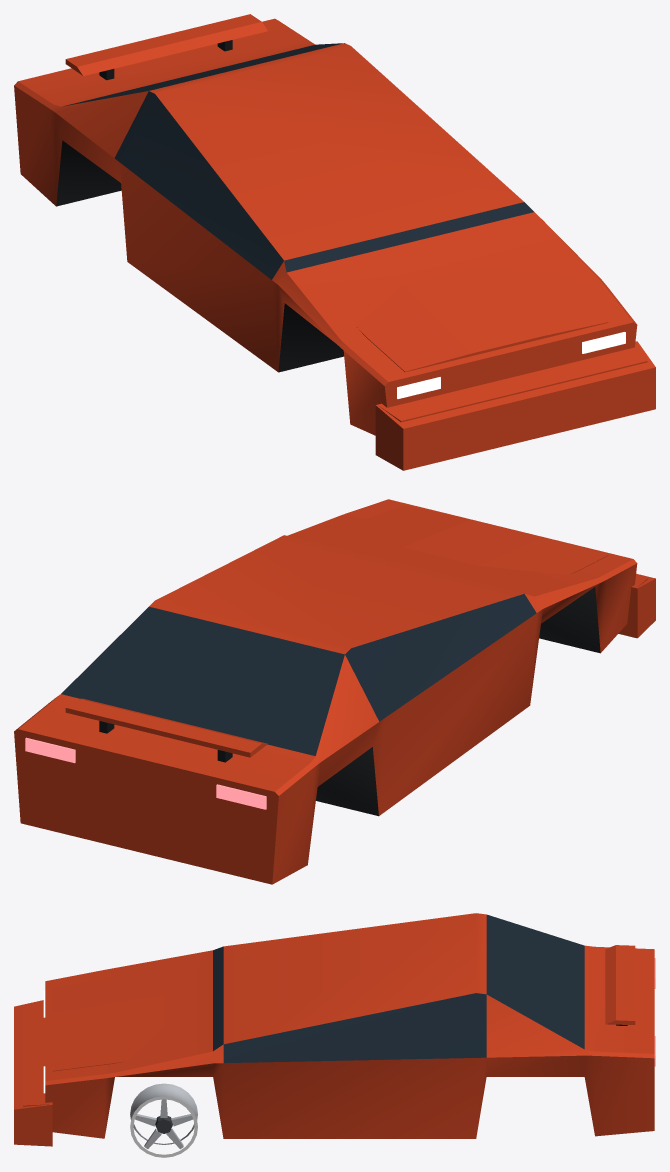
The picture shows the model from 3 angles, top to bottom: view 1: azimuth 30°, elevation 25°; view 2: azimuth 150°, elevation 25°; view 3: azimuth 270°, elevation 25°; orthographic projection. The views are drawn at different scales.
Parts seen in each view (by area): view 1: body-stock, hood-stock, glass-stock, bumper_front-kit01, bumper_front-stock, spoiler-stock; view 2: body-stock, glass-stock, hood-stock, spoiler-stock, bumper_front-kit01; view 3: body-stock, glass-stock, hood-stock, rim-stock, bumper_front-kit01, spoiler-stock, bumper_front-stock.
Boxes of the visible parts, x1,y1,x2,y2 form: body-stock: [14, 18, 637, 435]; hood-stock: [356, 266, 608, 372]; glass-stock: [64, 43, 533, 279]; bumper_front-kit01: [375, 341, 655, 470]; bumper_front-stock: [377, 342, 647, 422]; spoiler-stock: [65, 14, 267, 80]; body-stock: [14, 499, 637, 884]; glass-stock: [61, 593, 536, 755]; hood-stock: [356, 505, 608, 574]; spoiler-stock: [65, 698, 267, 762]; bumper_front-kit01: [618, 573, 655, 638]; body-stock: [43, 913, 655, 1138]; glass-stock: [213, 914, 584, 1063]; hood-stock: [52, 974, 163, 1071]; rim-stock: [130, 1083, 197, 1157]; bumper_front-kit01: [14, 1000, 52, 1146]; spoiler-stock: [605, 945, 635, 1025]; bumper_front-stock: [23, 1000, 52, 1106].
Size of what is drawn, in the model's own units: 1.72 by 1.12 by 4.32.
